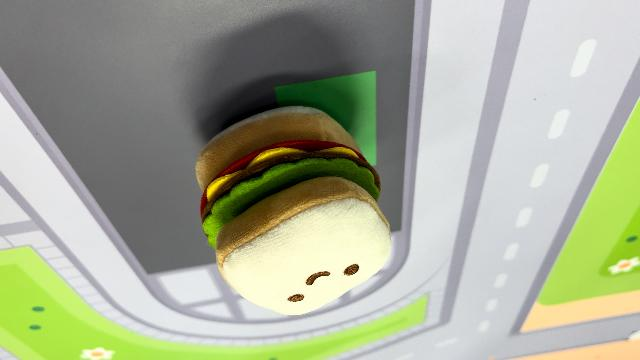sandwich: (192, 102, 396, 316)
